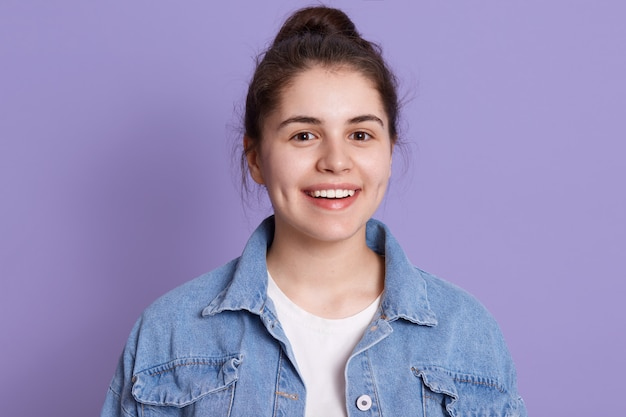teen: (244, 23, 408, 257)
